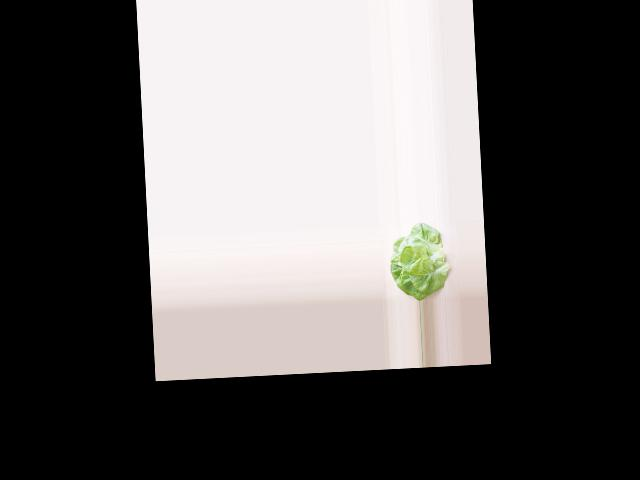lettuce: (388, 223, 449, 300)
